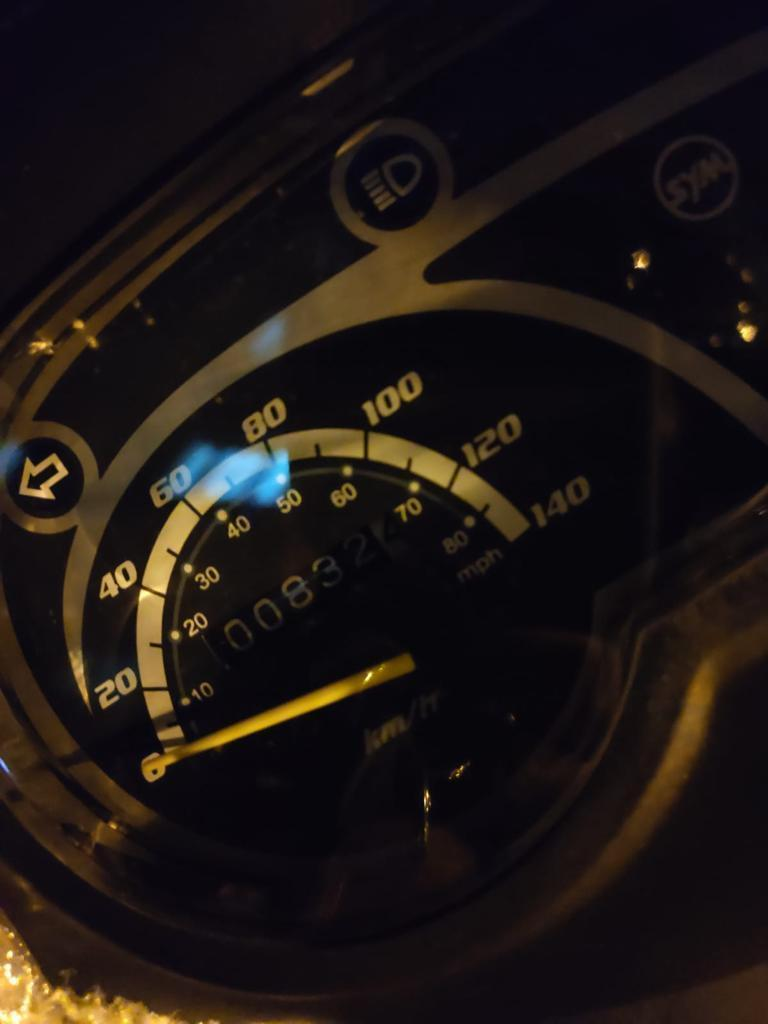0: (251, 596, 284, 633), (223, 616, 255, 653), (205, 563, 222, 584), (235, 514, 252, 533), (193, 611, 209, 630)
2: (341, 530, 378, 568)
3: (311, 553, 343, 589), (194, 572, 210, 591)
4: (380, 511, 409, 546), (226, 521, 241, 539)
7: (392, 503, 408, 523)
8: (280, 574, 314, 609)
odometer: (196, 508, 418, 677)
